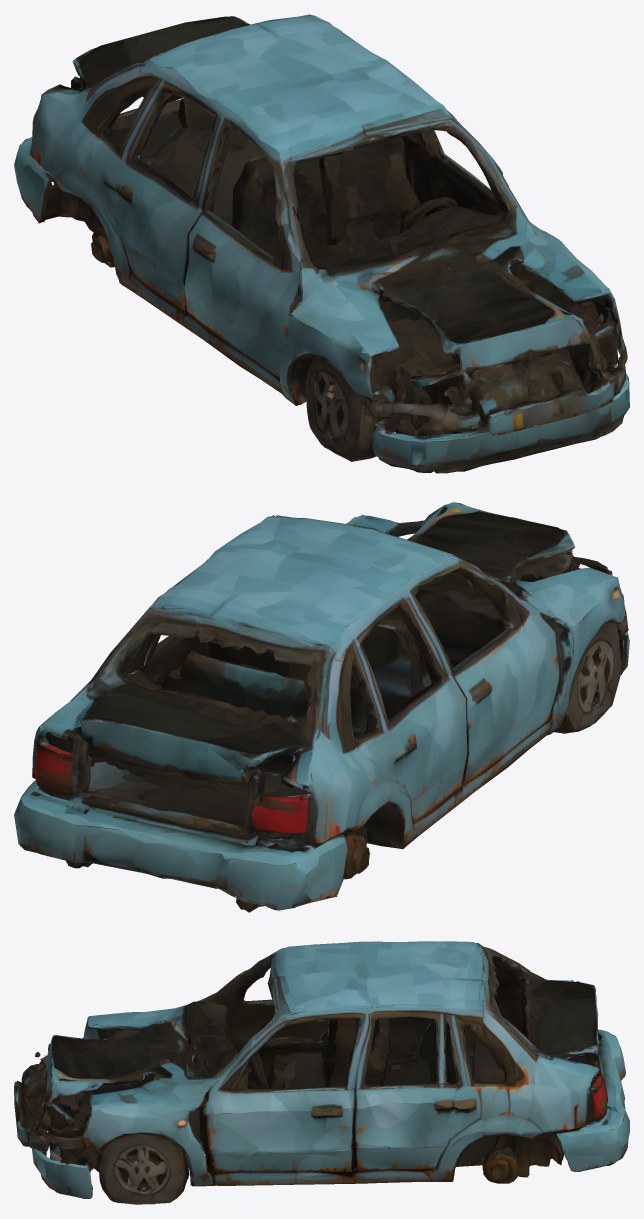
File: Car5.fbx
3 renders of one model, top to bottom at view 1: azimuth 30°, elevation 25°; view 2: azimuth 150°, elevation 25°; view 3: azimuth 270°, elevation 25°, orthographic. The views are drawn at different scales.
Visible parts, largest first — view 1: textured_mesh.obj; view 2: textured_mesh.obj; view 3: textured_mesh.obj.
Part boxes in pixels (x1,y1,x2,y2): textured_mesh.obj: (14,14,629,473); textured_mesh.obj: (14,502,629,912); textured_mesh.obj: (14,941,629,1204).
Bounding box in the file's own units: 222 × 166 × 506.
